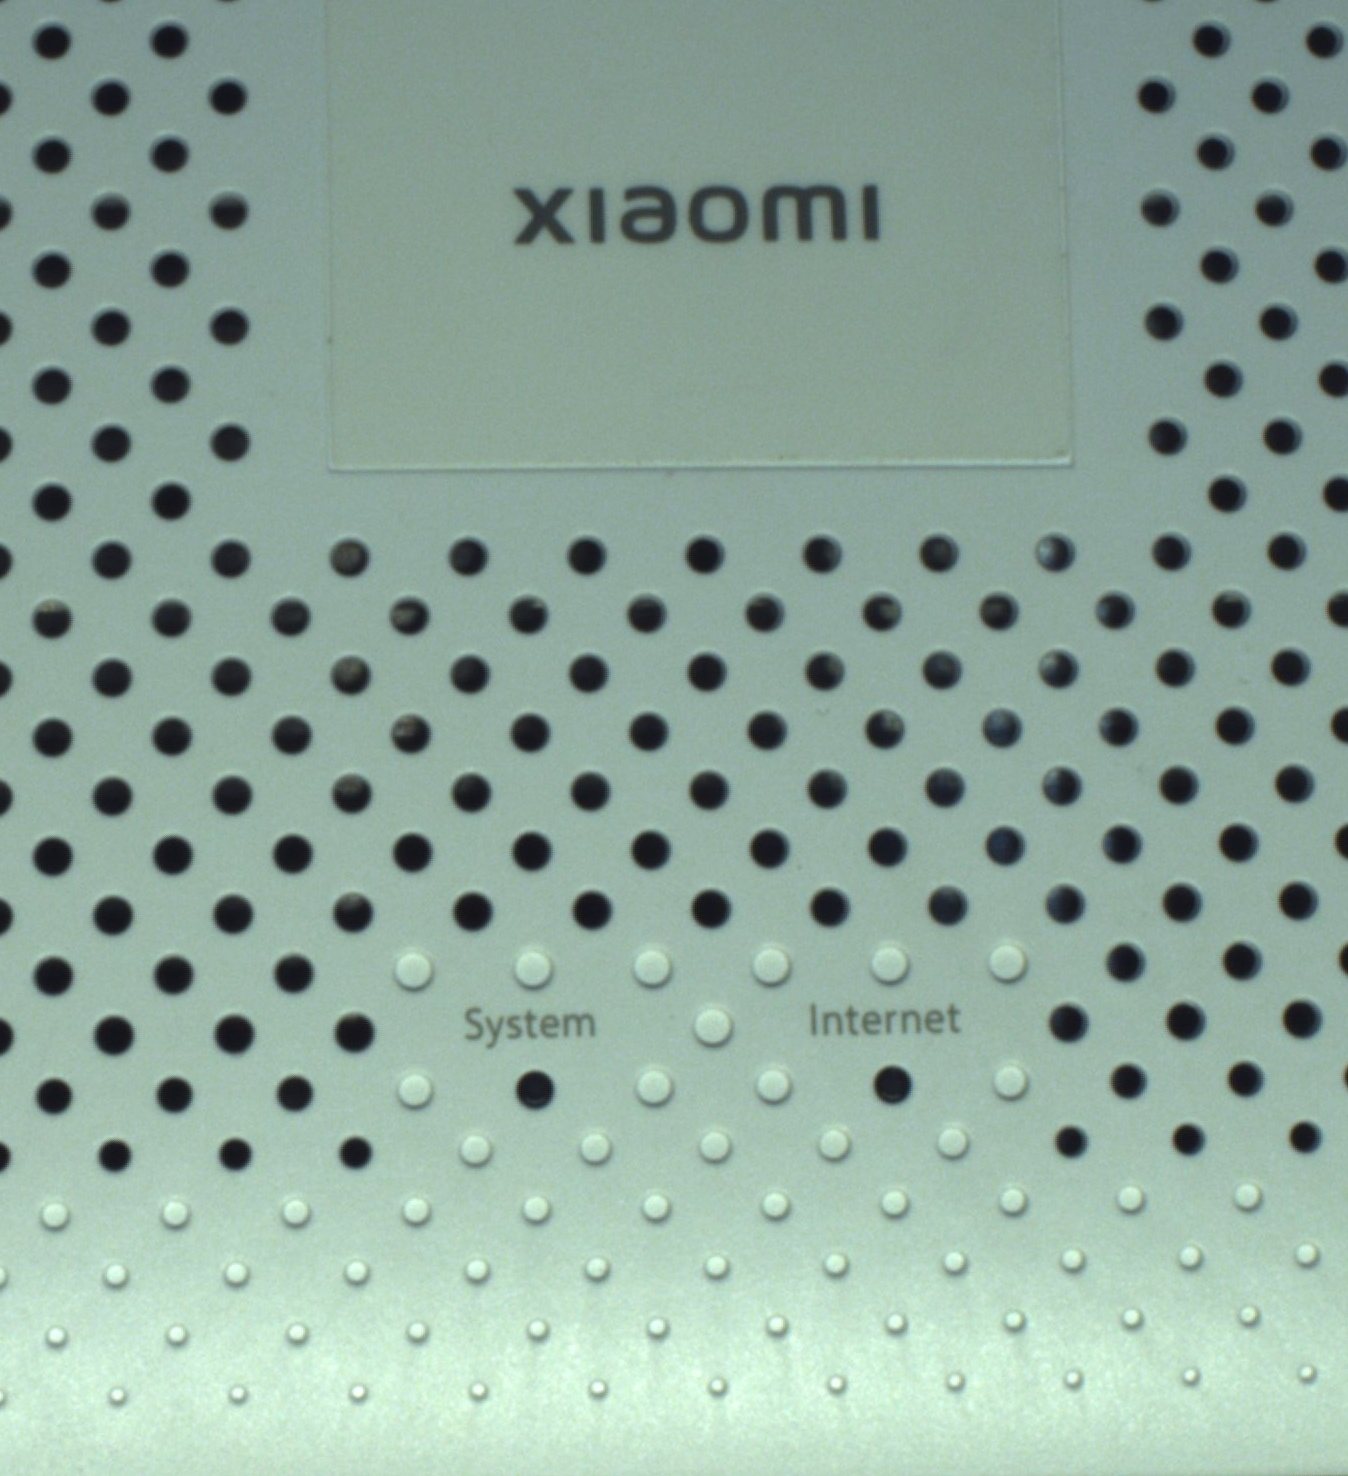MAB_OldUnicom: (495, 168, 884, 269)
